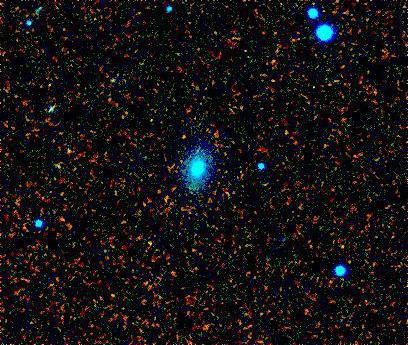star: (50, 203, 80, 233)
